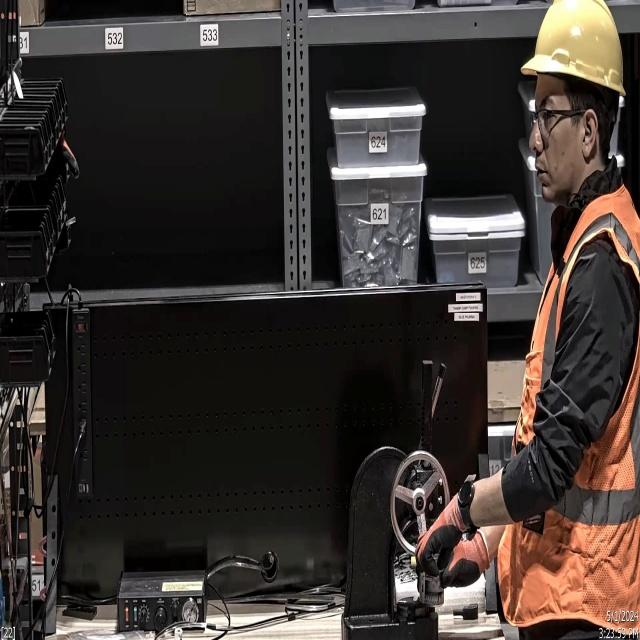construction-gloves: (410, 478, 482, 579)
